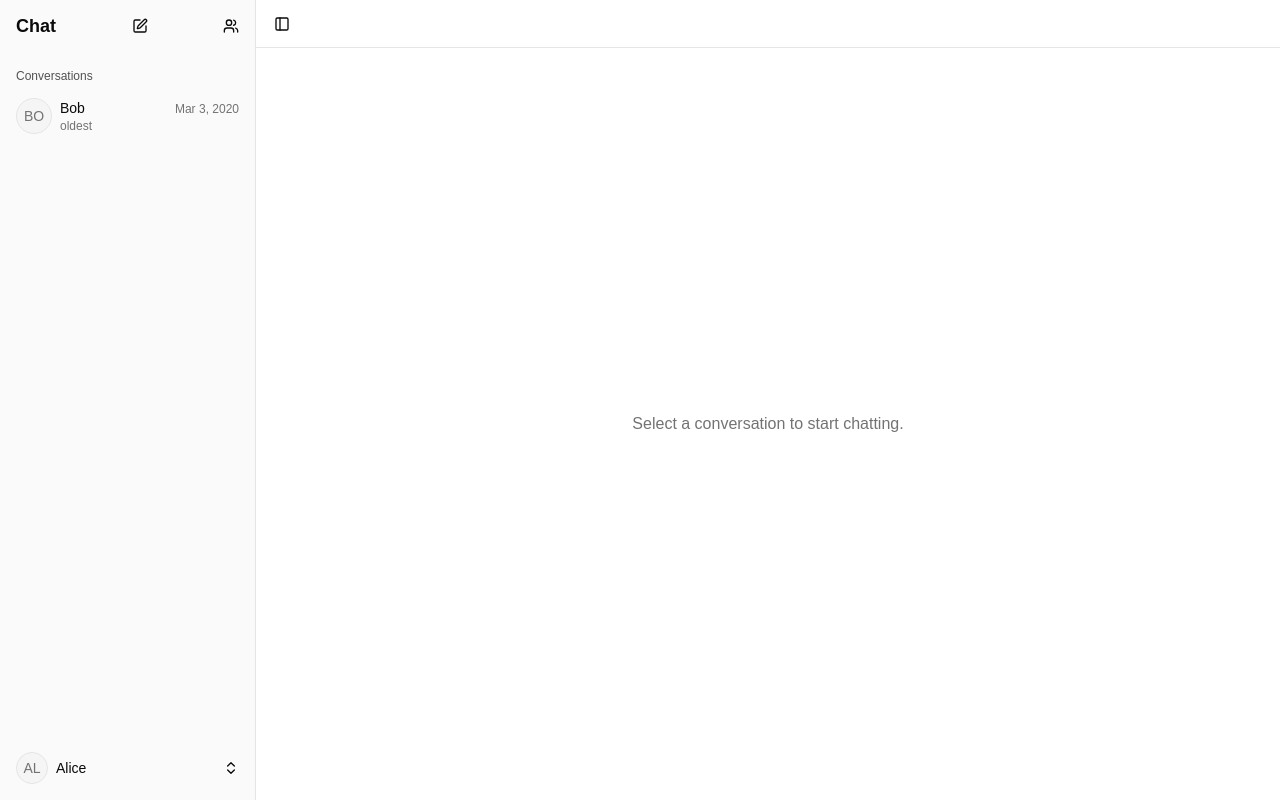
real-time push in the SPA › appends an incoming Message to the open Conversation
Click the button "BO Bob Mar 3, 2020 oldest": click(128, 116) [8, 92, 247, 140]
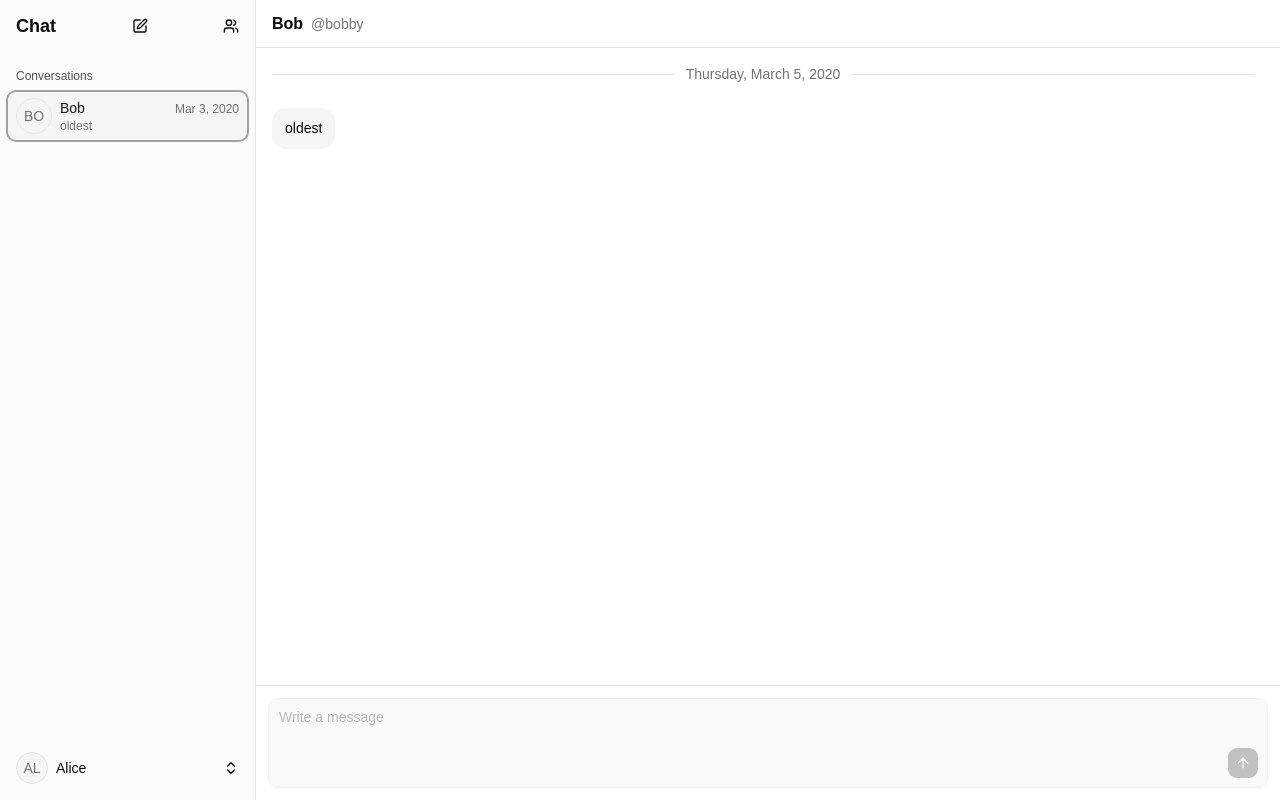
Expected: the heading "Bob" is shown, [272, 12, 303, 36]
